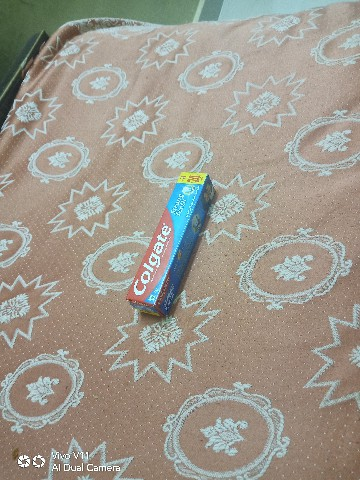colgatetoothpaste small: (121, 156, 225, 327)
